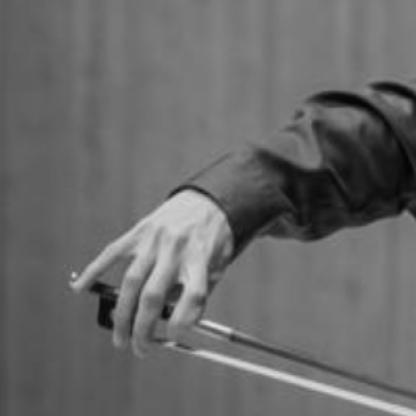bad: (65, 203, 233, 361)
